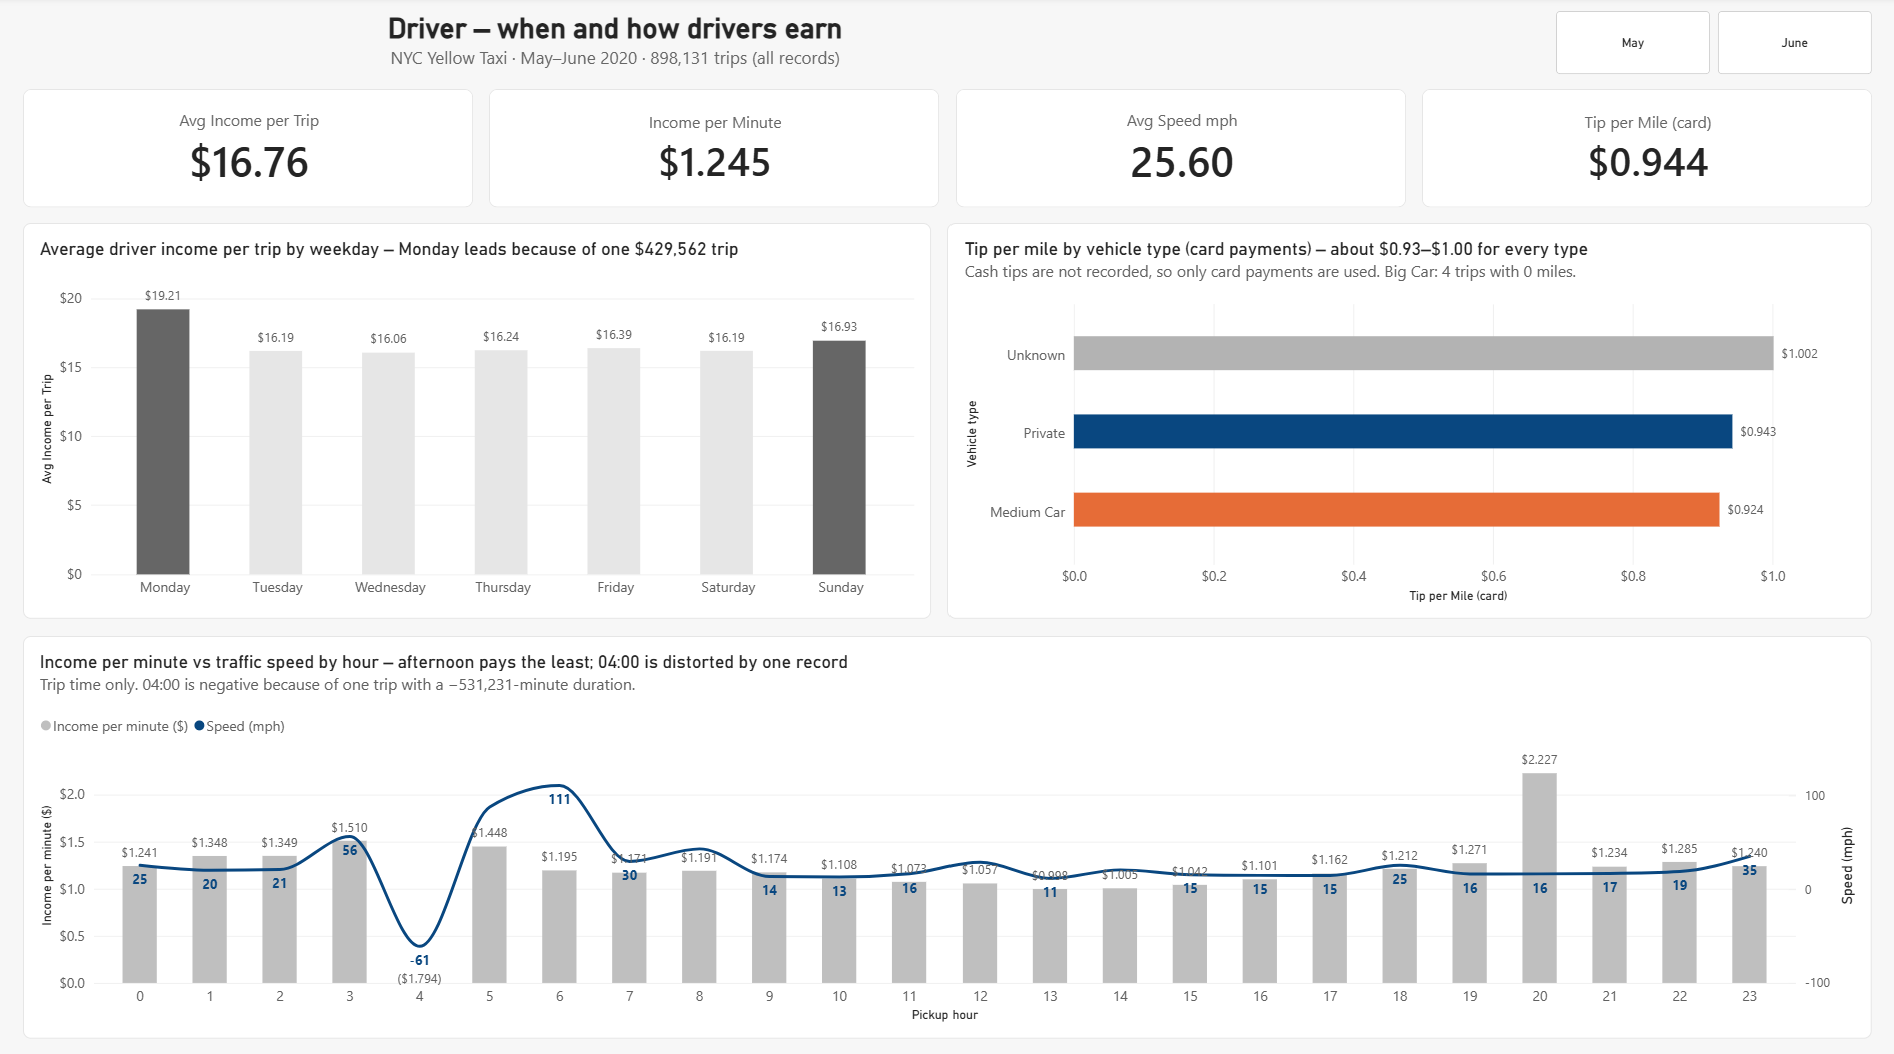

This screenshot's page, from the dashboard's own definition file:
{"tool":"powerbi","page":{"name":"Driver","canvas":[1920,1080],"ordinal":1},"visuals":[{"type":"clusteredColumnChart","title":"Average driver income per trip by weekday – Monday leads because of one $429,562 trip","fields":{"Category":["dim_date.weekday"],"Y":["_measures.Avg Income per Trip"]},"box":[24,232,920,400],"z":0},{"type":"clusteredBarChart","title":"Tip per mile by vehicle type (card payments) – about $0.93–$1.00 for every type","fields":{"Category":["dim_vehicle_type.vehicle_type"],"Y":["_measures.Tip per Mile (card)"]},"box":[960,232,936,400],"z":1000},{"type":"cardVisual","fields":{"Data":["_measures.Avg Income per Trip"]},"box":[24,96,456,120],"z":2000},{"type":"cardVisual","fields":{"Data":["_measures.Income per Minute"]},"box":[496,96,456,120],"z":3000},{"type":"cardVisual","fields":{"Data":["_measures.Avg Speed mph"]},"box":[968,96,456,120],"z":4000},{"type":"cardVisual","fields":{"Data":["_measures.Tip per Mile (card)"]},"box":[1440,96,456,120],"z":5000},{"type":"lineClusteredColumnComboChart","title":"Income per minute vs traffic speed by hour – afternoon pays the least; 04:00 is distorted by one record","fields":{"Category":["fact_trips.pickup_hour"],"Y":["_measures.Income per Minute"],"Y2":["_measures.Avg Speed mph"]},"box":[24,648,1872,408],"z":6000},{"type":"textbox","title":"Driver – when and how drivers earn","box":[24,16,1200,64],"z":7000},{"type":"advancedSlicerVisual","fields":{"Values":["dim_date.month"]},"box":[1576,16,320,64],"z":8000}]}

Visuals, with their boxes in screenshot pixels (x1, y1, x2, y2), scaled from the page's 1920x1080 canvas onto the 1894x1054 screenshot:
"Average driver income per trip by weekday – Monday leads because of one $429,562 trip" clusteredColumnChart: [x1=24, y1=226, x2=931, y2=617]
"Tip per mile by vehicle type (card payments) – about $0.93–$1.00 for every type" clusteredBarChart: [x1=947, y1=226, x2=1870, y2=617]
cardVisual - _measures.Avg Income per Trip: [x1=24, y1=94, x2=474, y2=211]
cardVisual - _measures.Income per Minute: [x1=489, y1=94, x2=939, y2=211]
cardVisual - _measures.Avg Speed mph: [x1=955, y1=94, x2=1405, y2=211]
cardVisual - _measures.Tip per Mile (card): [x1=1420, y1=94, x2=1870, y2=211]
"Income per minute vs traffic speed by hour – afternoon pays the least; 04:00 is distorted by one record" lineClusteredColumnComboChart: [x1=24, y1=632, x2=1870, y2=1031]
"Driver – when and how drivers earn" textbox: [x1=24, y1=16, x2=1207, y2=78]
advancedSlicerVisual - dim_date.month: [x1=1555, y1=16, x2=1870, y2=78]
